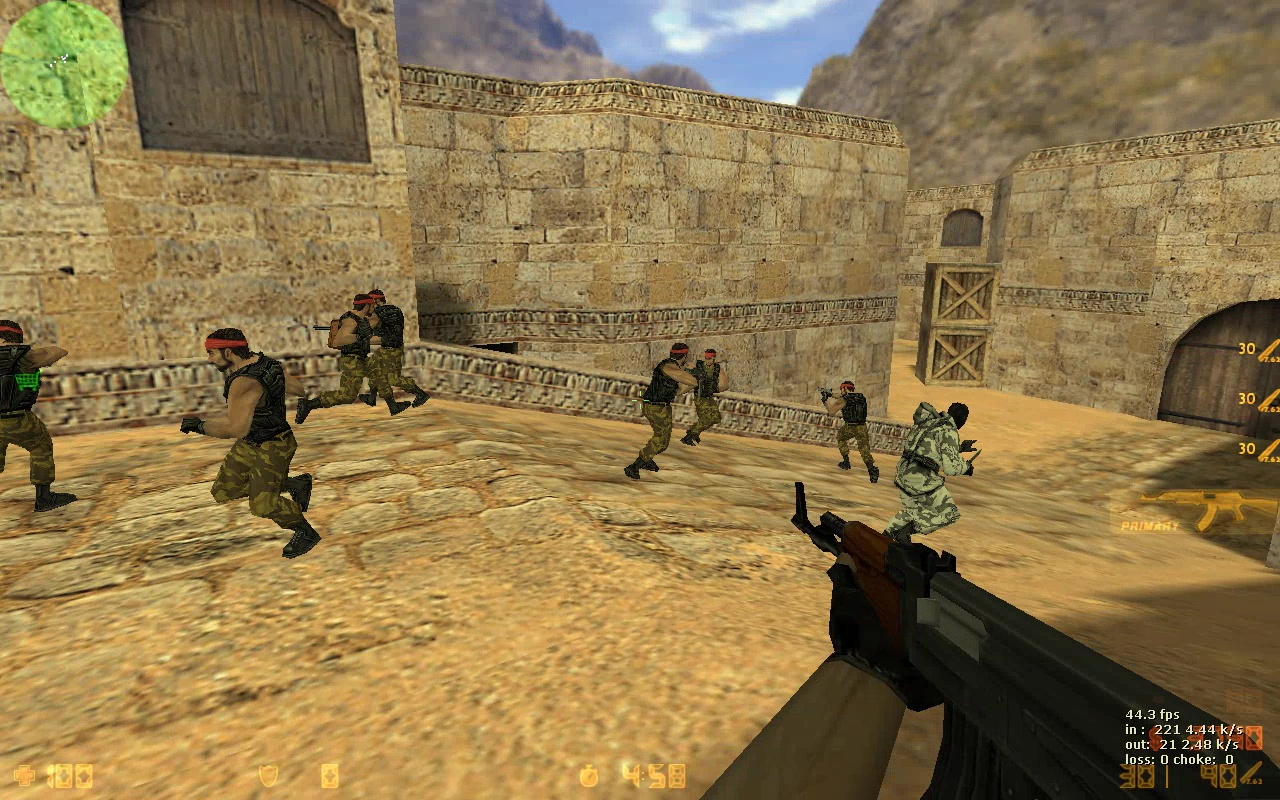terr1: (178, 326, 321, 557), (296, 293, 412, 421), (1, 318, 69, 525), (621, 341, 700, 479), (361, 287, 430, 408), (820, 381, 879, 482), (676, 349, 733, 446)
terr2: (865, 402, 987, 546)
